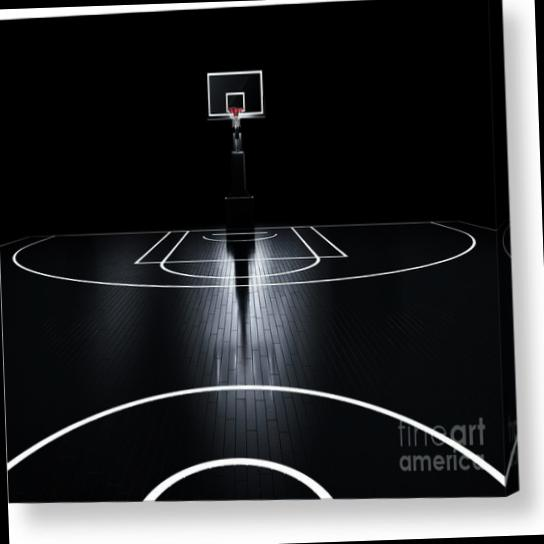basketball-hoop: (224, 104, 246, 129)
